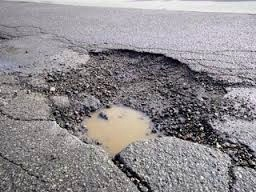pothole: (41, 42, 226, 156)
